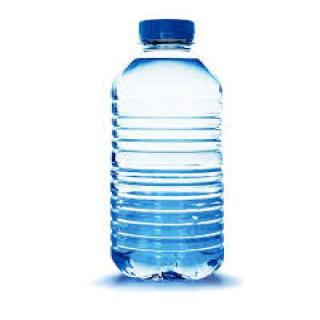Anorganik: (104, 17, 230, 285)
